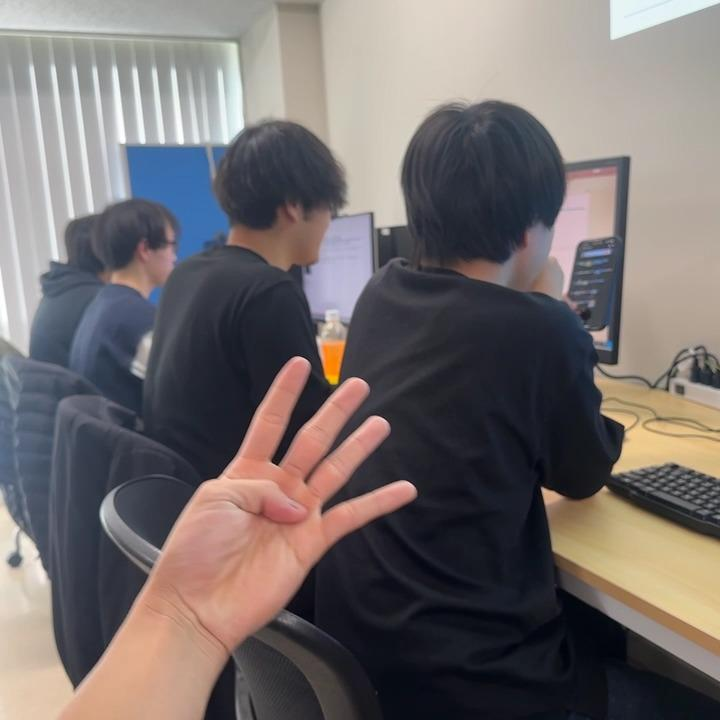without_gloves: (172, 349, 414, 631)
